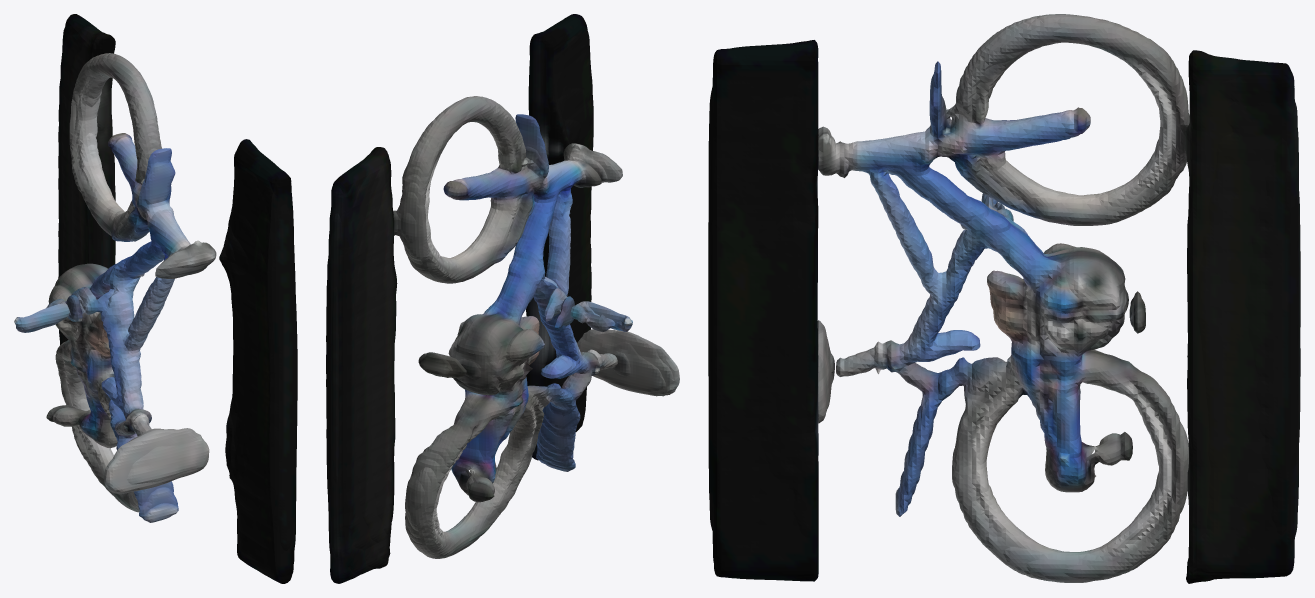
Rendered from 000028_bicycle_blue_vehicle.glb.
The picture shows the model from 3 angles, left to right: view 1: azimuth 30°, elevation 25°; view 2: azimuth 150°, elevation 25°; view 3: azimuth 270°, elevation 25°; orthographic projection. The views are drawn at different scales.
Parts seen in each view (by area): view 1: world; view 2: world; view 3: world.
Boxes of the visible parts, left/top/right/bottom form: world: left=14, top=14, right=297, bottom=583; world: left=326, top=14, right=679, bottom=583; world: left=708, top=14, right=1300, bottom=583.
Size of the model in its own units: 0.4398 by 1 by 0.9513.
